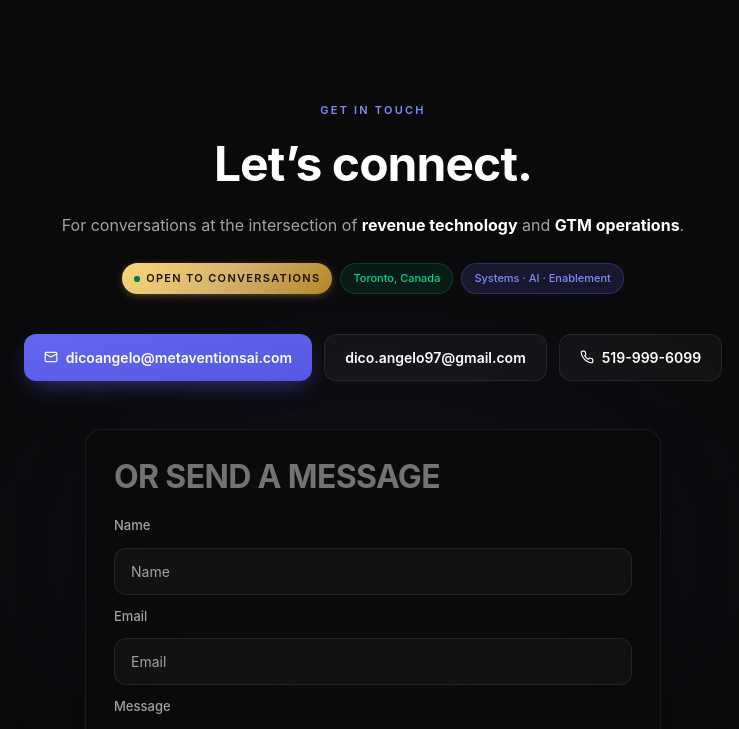
contact form › shows success only after the API confirms acceptance
Type "A Visitor" into the field labelled "Name" at (373,571), box [114,548,632,595]
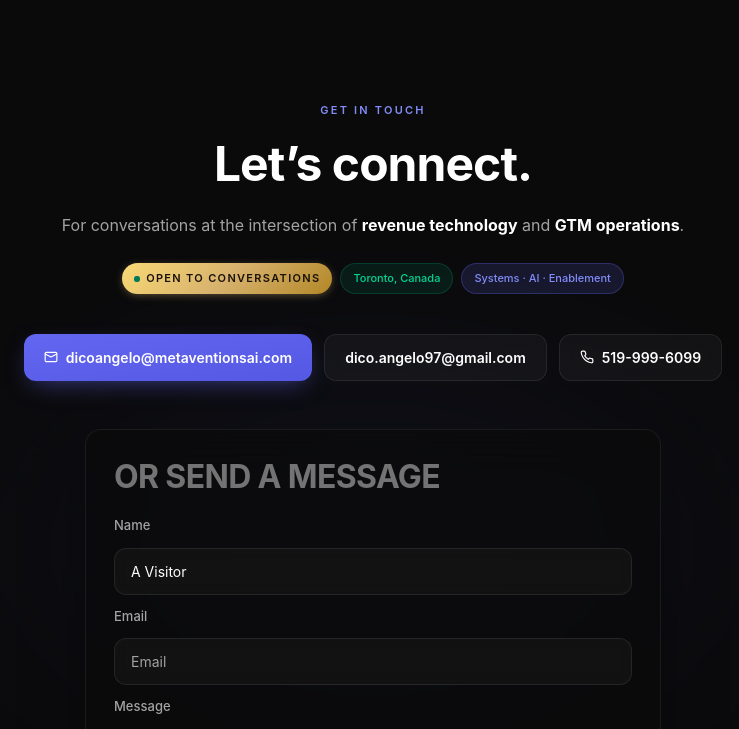
Type "visitor@example.com" into the field labelled "Email" at (373,662), box [114,638,632,685]
(page scrolled)
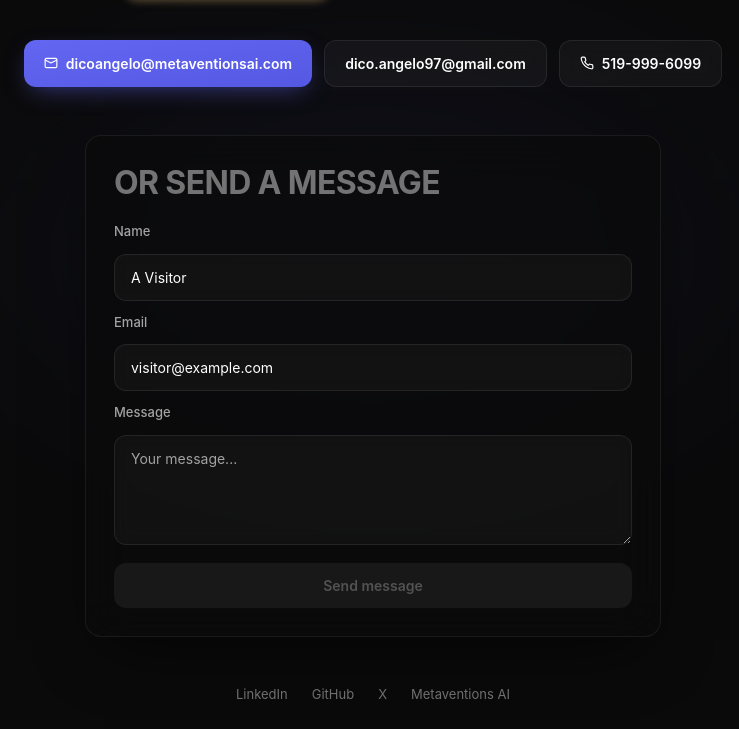
Type "Let's discuss a project." into the text box labelled "Message" at (373,490), box [114,435,632,545]
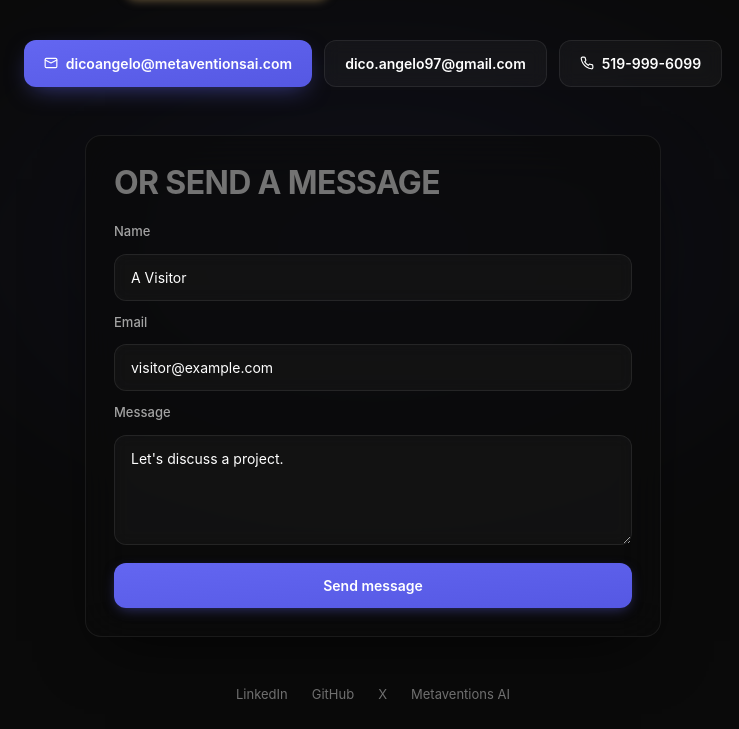
Click the button "Send message" at (373,585), box [114,563,632,608]
(page scrolled)
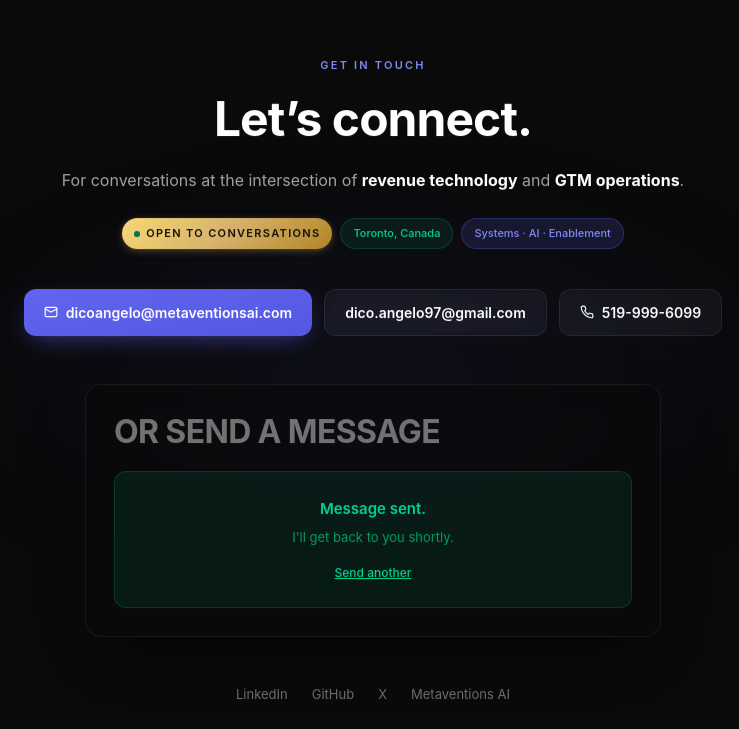
Expected: the message shows "Message sent.", [320,499,426,518]
